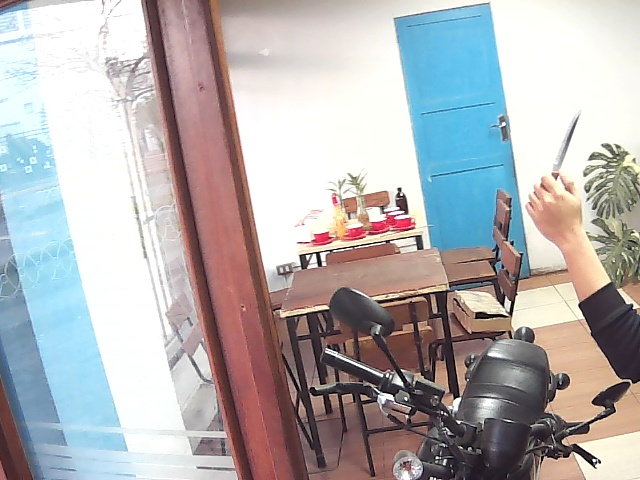cuchillo: (515, 98, 595, 247)
